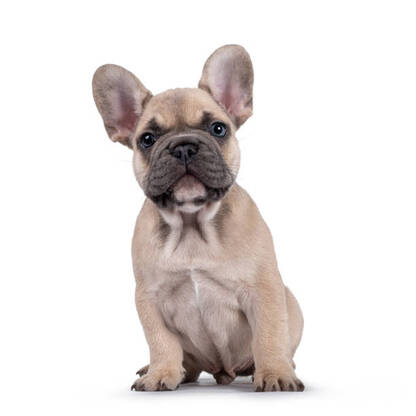bulldog: (89, 41, 315, 402)
